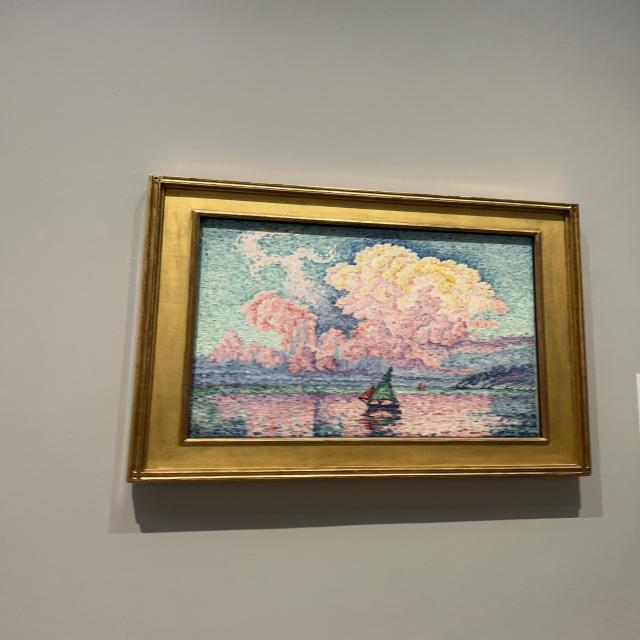sunrise: (187, 217, 541, 438)
